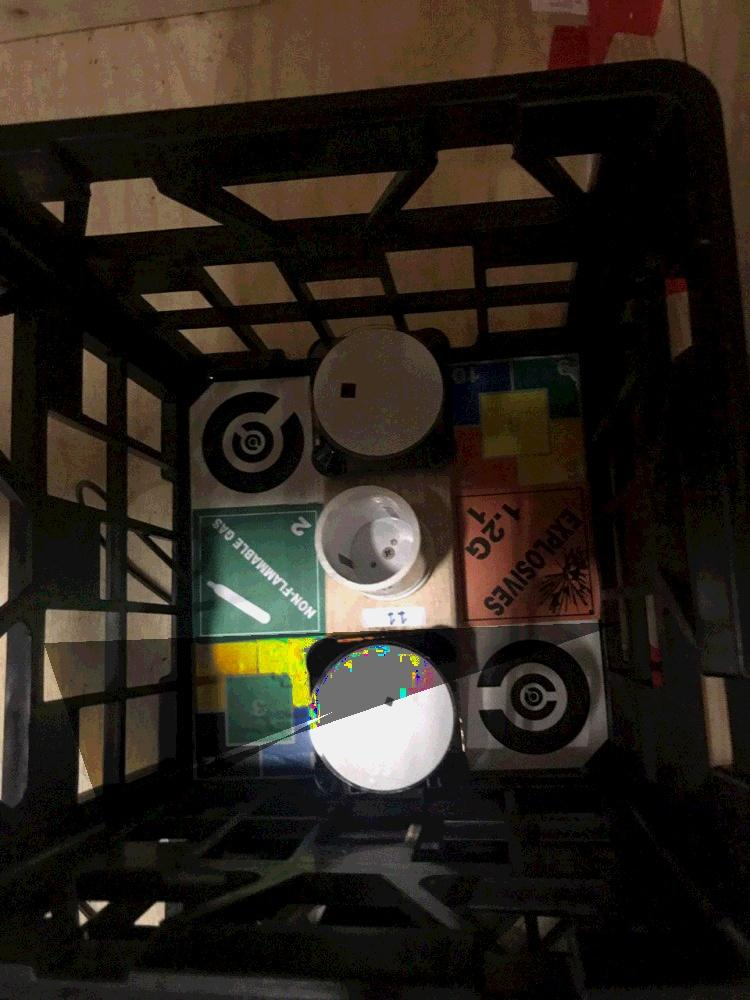explosive: (462, 486, 593, 627)
non-flammable-gas: (192, 506, 323, 643)
